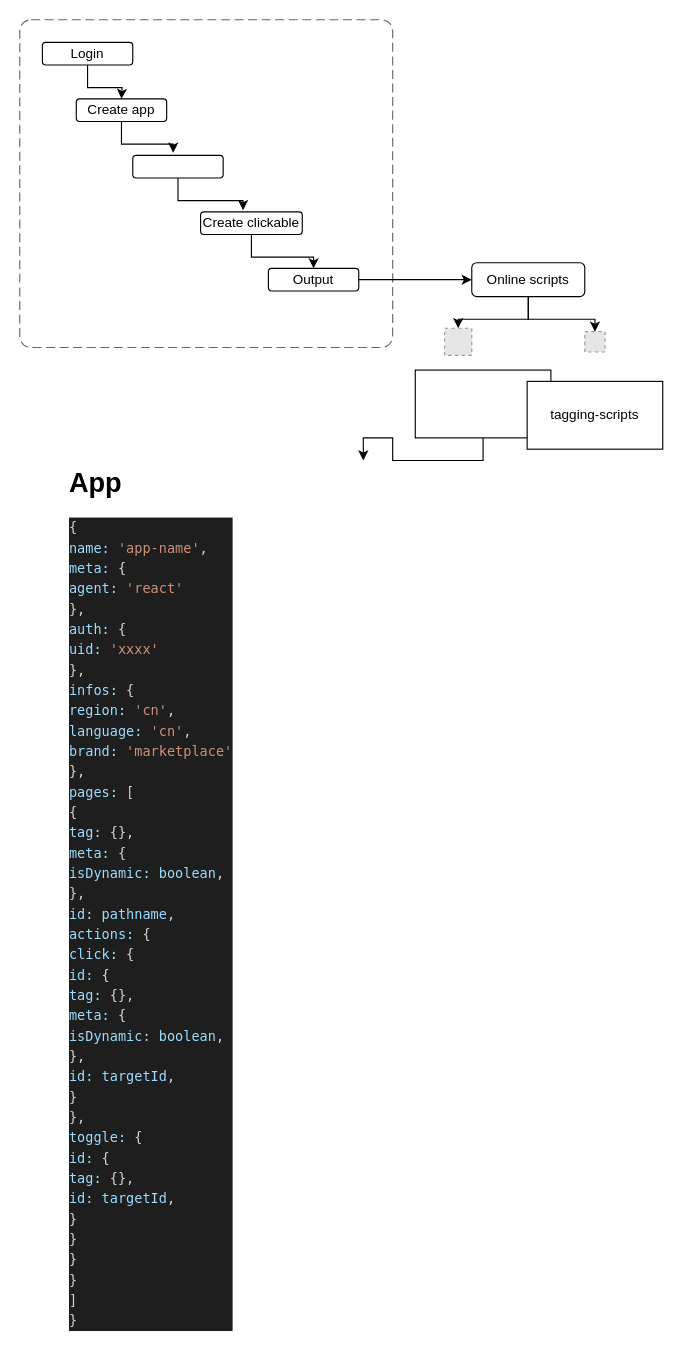
The diagram is 683 pixels wide and 1362 high, and some of its shapes have lost their labels. Grey dashed boxes stand in for pictures. Each missing label, with the box of its shape:
App schema: (414, 369, 551, 438)
Create pages: (132, 154, 223, 178)
Portal [Portal]: (19, 19, 393, 347)
